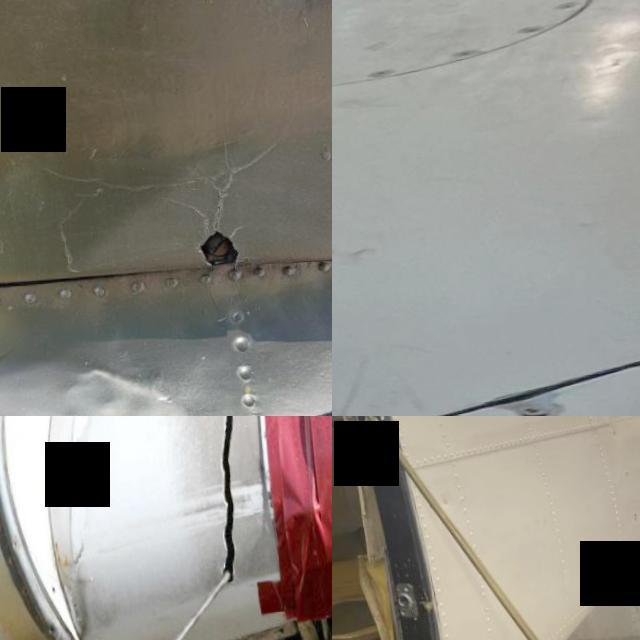Crack: (156, 133, 302, 285), (184, 416, 286, 599)
Dent: (432, 496, 450, 512)
